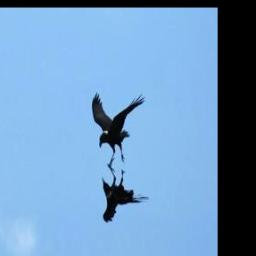Crow: (91, 91, 147, 169)
